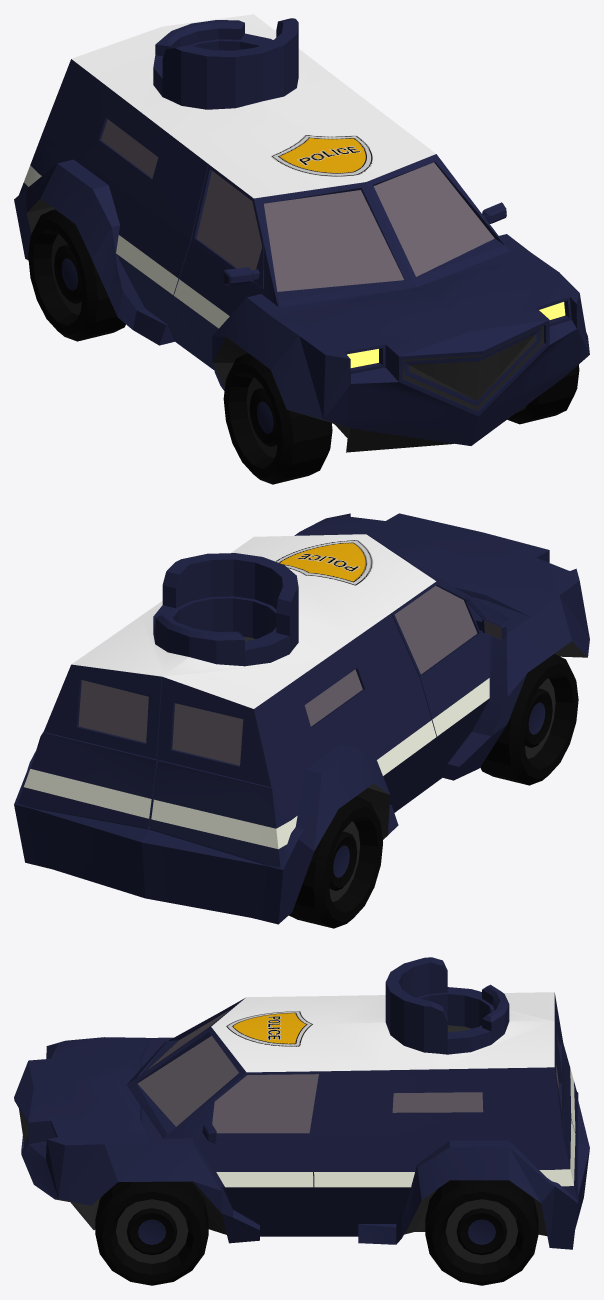
The model's file is police_armored_car.fbx.
3 views of the same model, one above another, from view 1: azimuth 30°, elevation 25°; view 2: azimuth 150°, elevation 25°; view 3: azimuth 270°, elevation 25° (orthographic). The views are drawn at different scales.
Visible parts, largest first — view 1: fullbody, body, wheel3, wheel4; view 2: body, fullbody, wheel3, wheel4; view 3: body, fullbody, wheel1, wheel2.
Boxes of the visible parts, bbox=[...] form: fullbody: bbox=[14, 14, 589, 484]; body: bbox=[14, 14, 589, 451]; wheel3: bbox=[28, 209, 102, 335]; wheel4: bbox=[223, 353, 294, 484]; body: bbox=[14, 513, 589, 924]; fullbody: bbox=[19, 513, 589, 928]; wheel3: bbox=[289, 796, 382, 922]; wheel4: bbox=[480, 661, 577, 785]; body: bbox=[21, 957, 589, 1249]; fullbody: bbox=[14, 958, 577, 1285]; wheel1: bbox=[102, 1181, 208, 1285]; wheel2: bbox=[432, 1180, 538, 1282].
Size of the model in its own units: 427 by 394 by 838.
8 materials, 1 textured.
